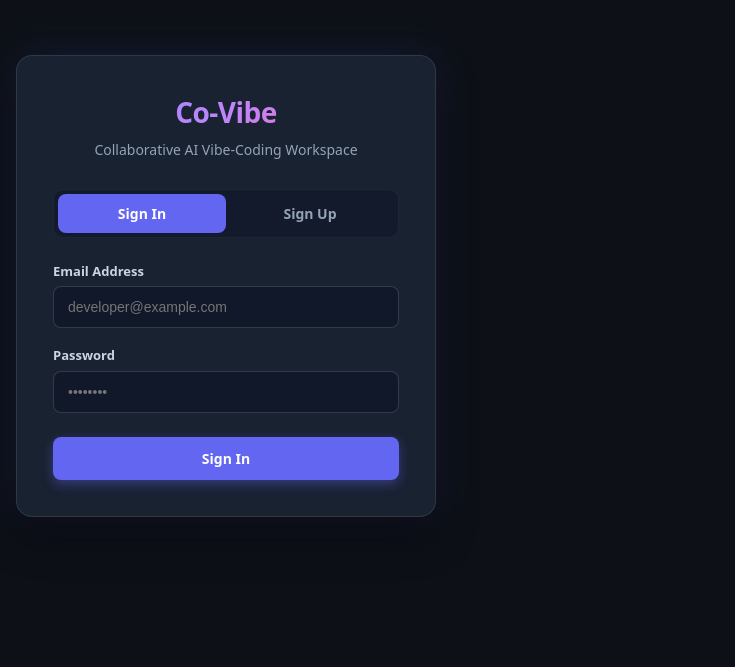
Test: LoginPage & AuthProvider Component › displays alert message on failed authentication
Type "test@example.com" into the field labelled "Email Address" at (226, 307), box [53,286,399,328]
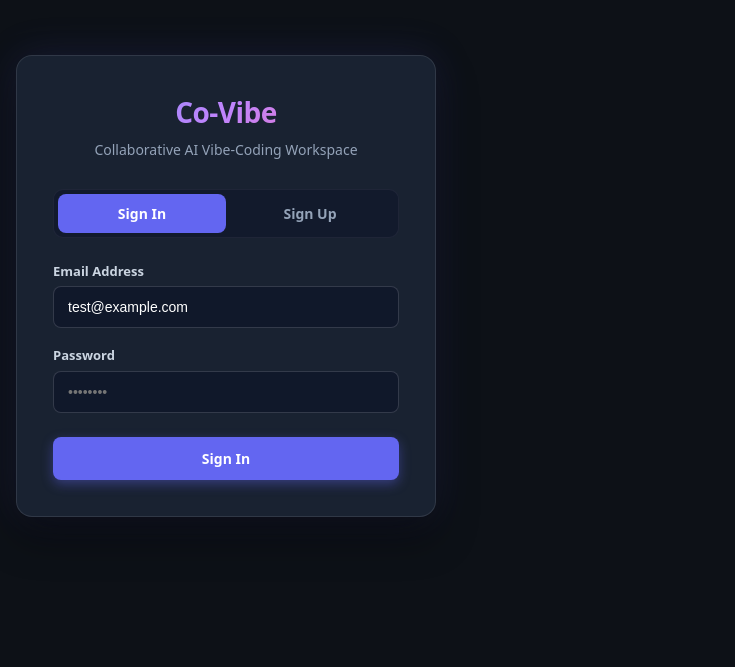
Type "wrongpass" into the password field labelled "Password" at (226, 392), box [53,371,399,413]
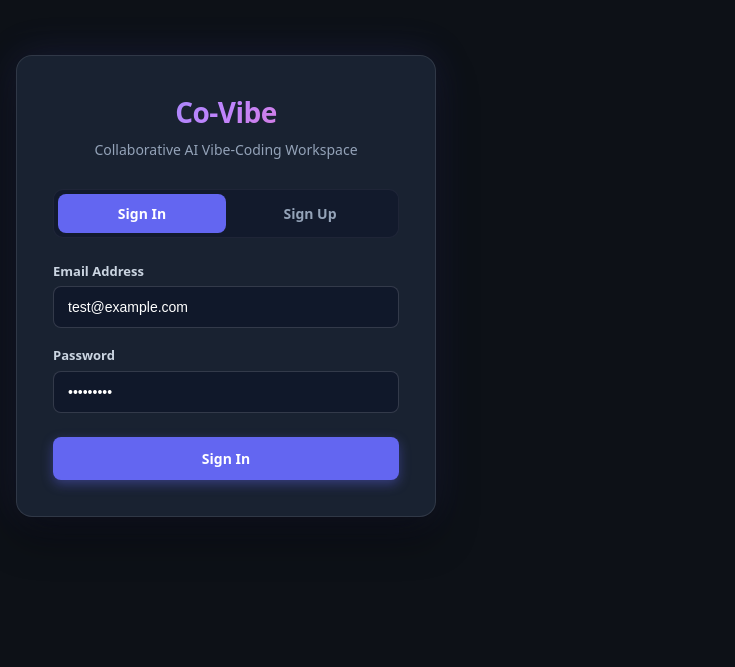
Click the button "Sign In" at (226, 459), box [53,437,399,480]
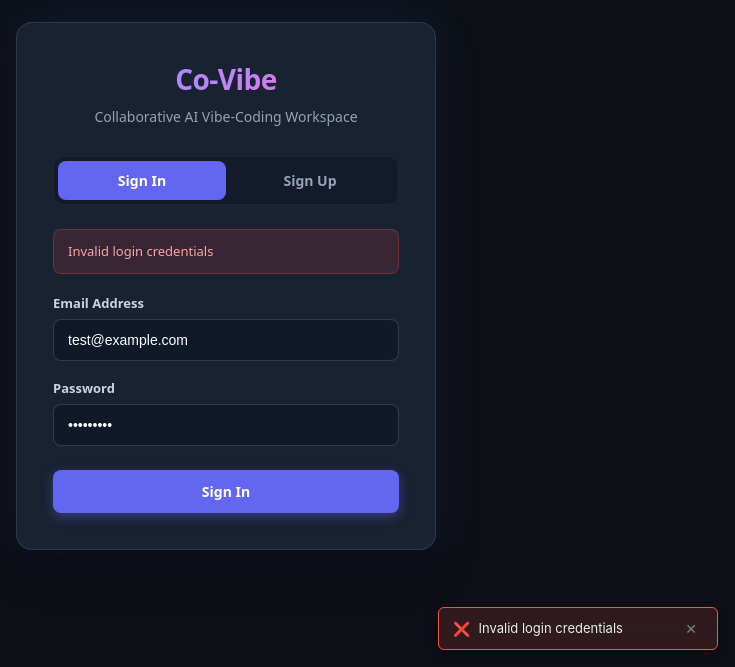
Result: the text "Invalid login credentials" is shown at [53,229,399,274]
